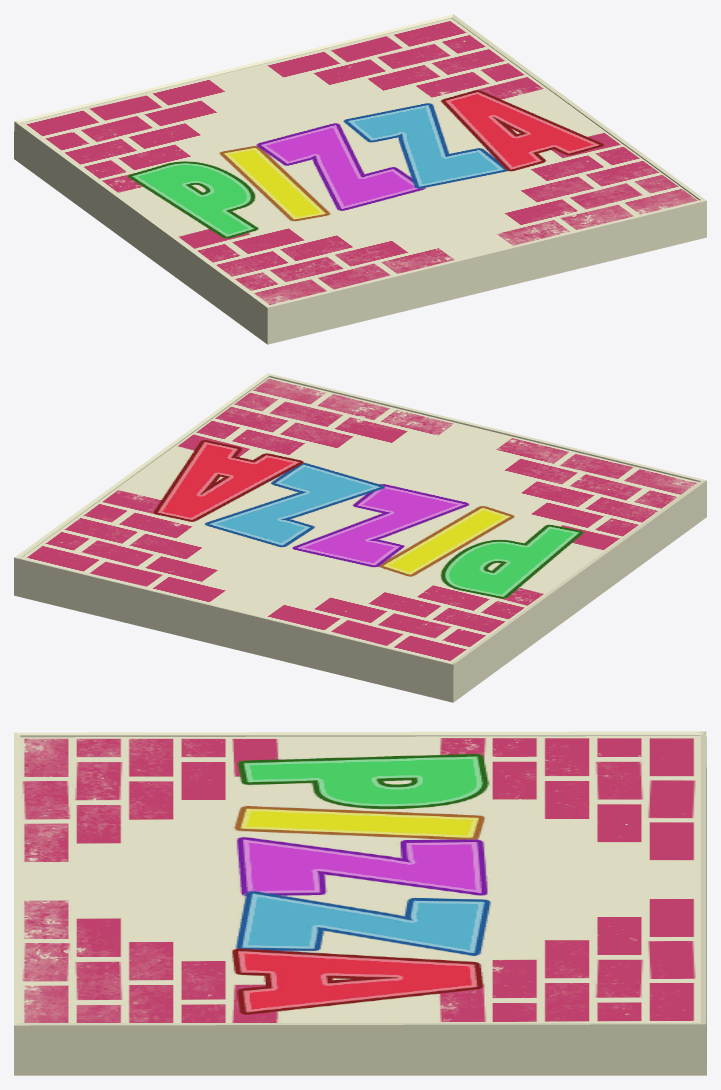
Rendered from pizza box desert.glb.
The picture shows the model from 3 angles, top to bottom: view 1: azimuth 30°, elevation 25°; view 2: azimuth 150°, elevation 25°; view 3: azimuth 270°, elevation 25°; orthographic projection. The views are drawn at different scales.
Visible parts, largest first — view 1: PizzaBox_Closed; view 2: PizzaBox_Closed; view 3: PizzaBox_Closed.
Boxes of the visible parts, x1,y1,x2,y2 form: PizzaBox_Closed: (14, 14, 706, 344); PizzaBox_Closed: (14, 373, 706, 702); PizzaBox_Closed: (14, 731, 706, 1075).
Bounding box in the file's own units: 0.5001 × 0.0411 × 0.5.
1 material, 1 textured.
